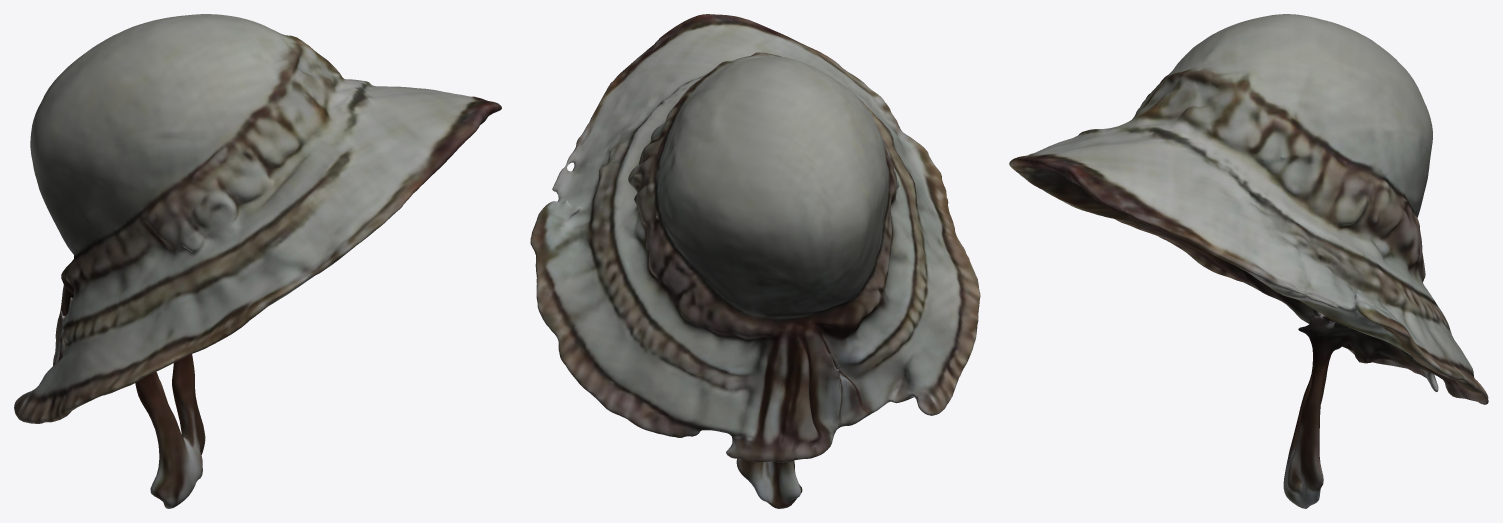
Rendered from fb17cad2caac_victorian_bonnet__3.fbx.
3 renders of one model, left to right at view 1: azimuth 30°, elevation 25°; view 2: azimuth 150°, elevation 25°; view 3: azimuth 270°, elevation 25°, orthographic. The views are drawn at different scales.
Parts seen in each view (by area): view 1: high_poly; view 2: high_poly; view 3: high_poly.
Boxes of the visible parts, bbox=[...] form: high_poly: bbox=[14, 14, 501, 508]; high_poly: bbox=[530, 14, 980, 508]; high_poly: bbox=[1009, 14, 1488, 508].
Size of the model in its own units: 89.61 by 100 by 88.7.
